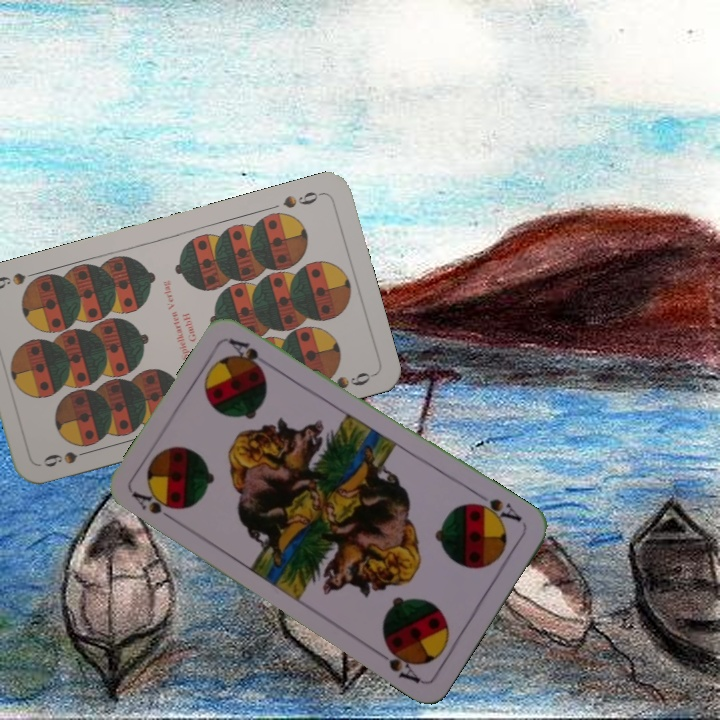S9: (39, 445, 96, 470), (279, 187, 326, 211)
SA: (128, 487, 181, 526), (468, 494, 525, 528)
